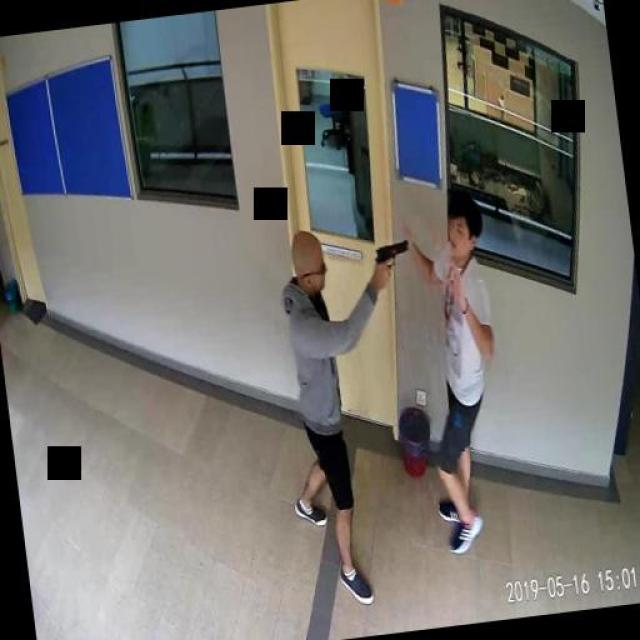gun: (372, 237, 412, 285)
